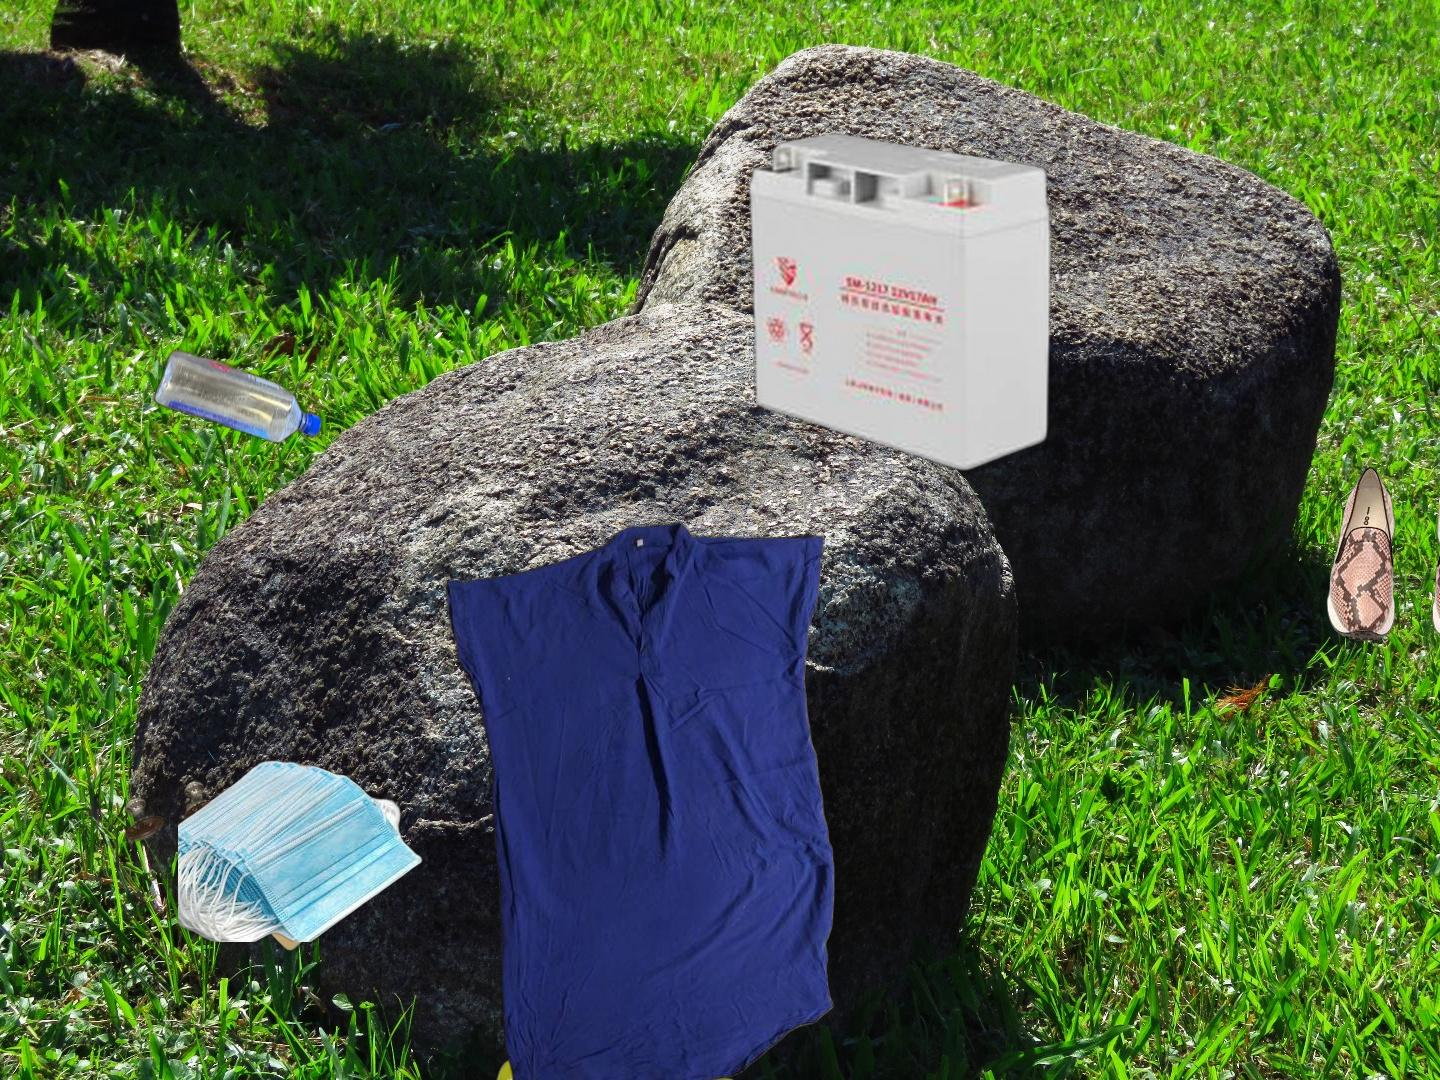battery: (743, 128, 1058, 475), (346, 871, 743, 1080)
clothes: (443, 516, 838, 1080)
paper-bag: (122, 756, 378, 953)
plastic-bottles: (149, 346, 327, 446)
shoes: (1324, 464, 1440, 646)
trash: (178, 759, 426, 942)
